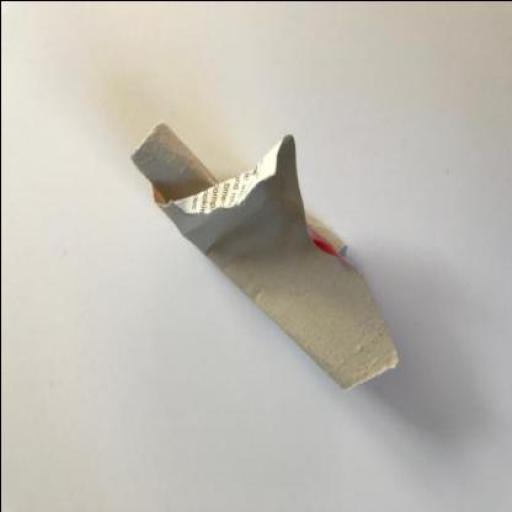cardboard: (130, 120, 396, 388)
